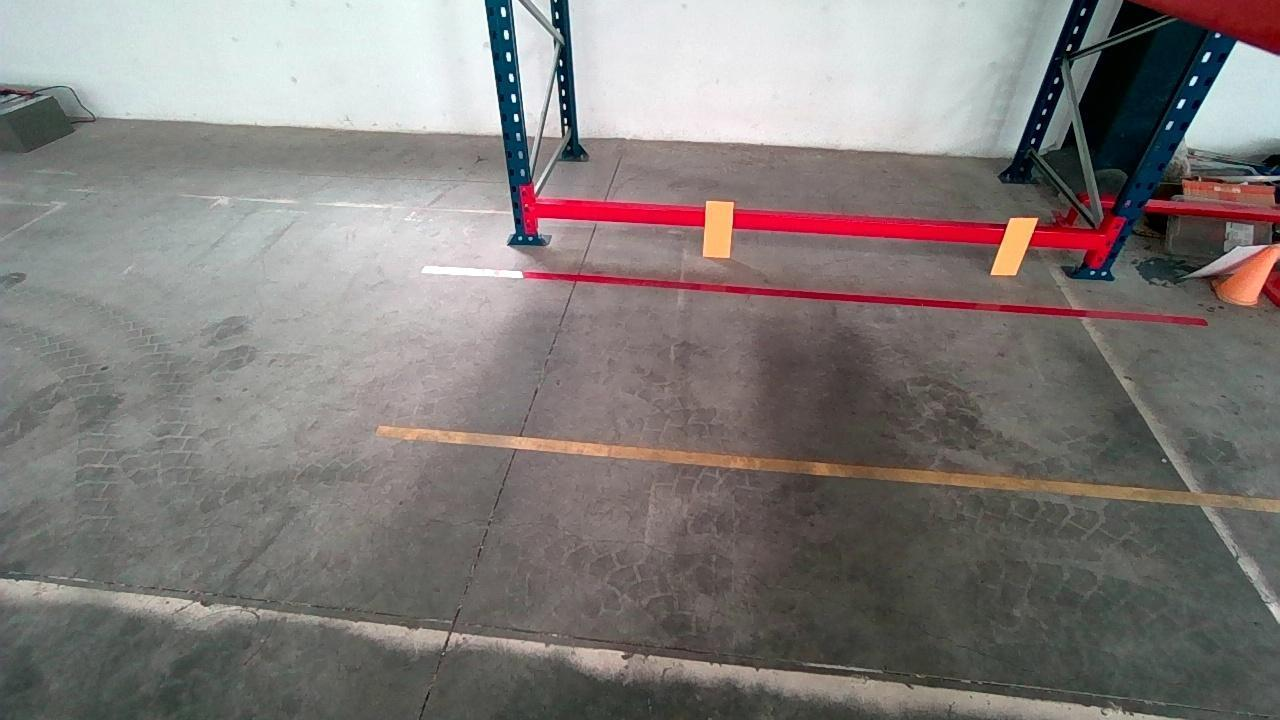h_rack: (533, 201, 1110, 249)
orange_strip: (992, 215, 1041, 273), (704, 200, 734, 257)
red_line: (417, 261, 1210, 325)
yellow_line: (380, 426, 1280, 514)
